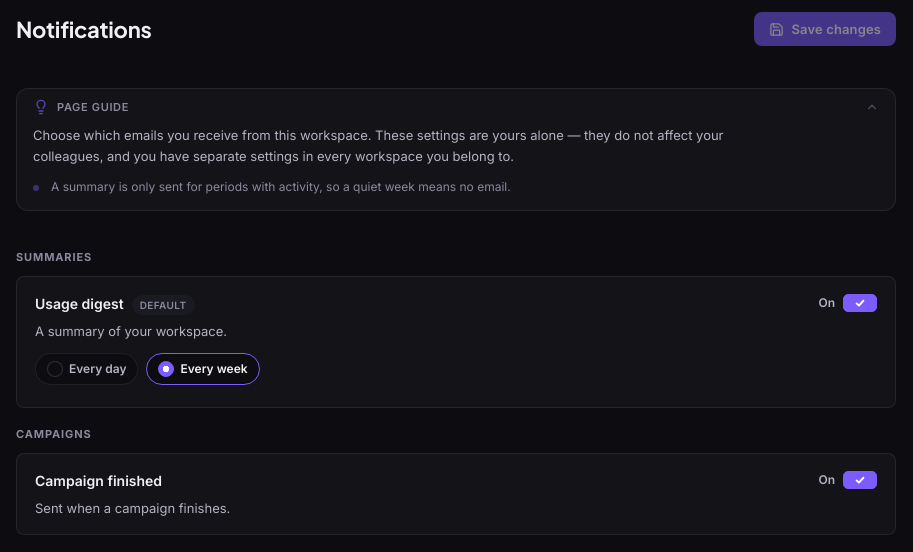
Test: NotificationSettingsPage › the Default chip tracks the draft › comes back when the draft returns to the default value
The image size is (913, 552).
Expected: the text "Usage digest" is shown, [35,294,124,316]
Click the radio button labelled "Every day" at (55, 369), box [47,361,63,377]
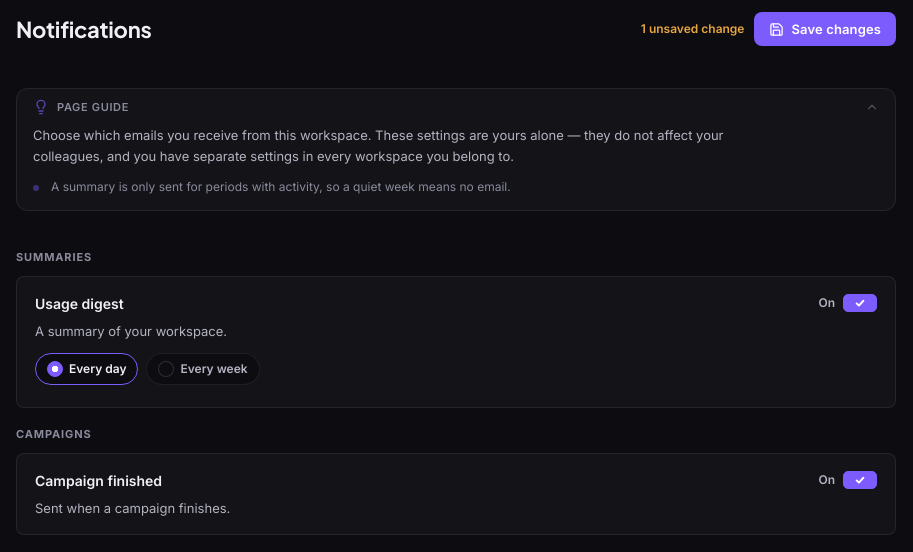
Result: the text "Default" is gone
Click the radio button labelled "Every week" at (166, 369), box [158,361,174,377]
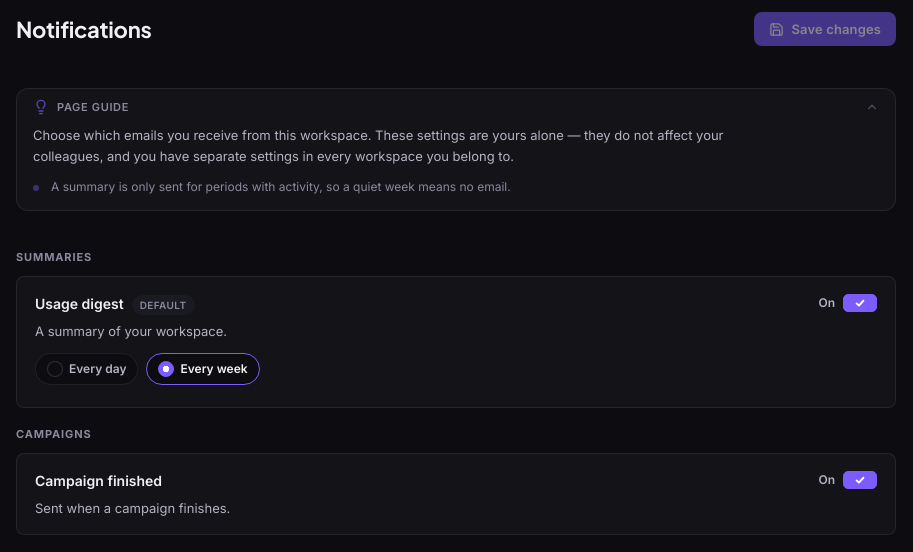
Result: the text "Default" is shown at [132,295,194,315]
